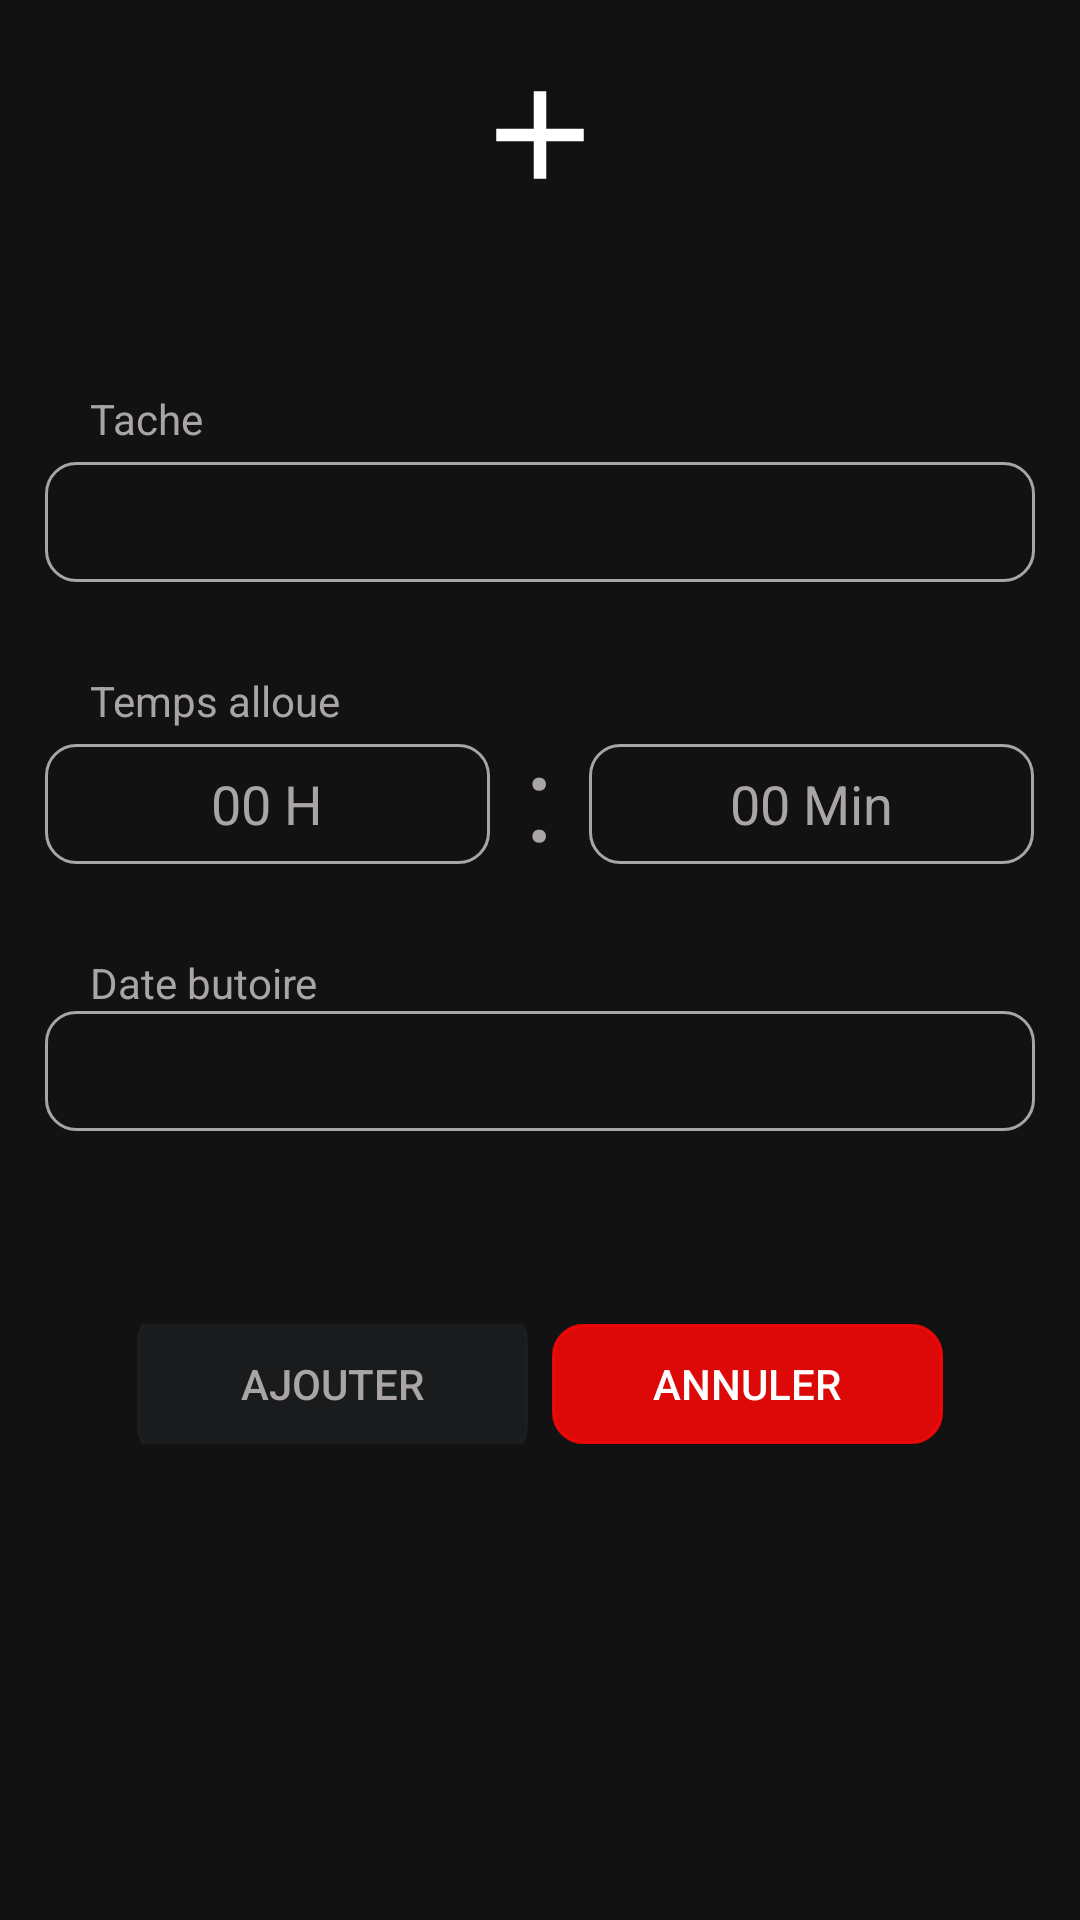

Named icons in this screenshot (1080×1920) and their bounding boxes, BBox(x1, y1, x2, y2):
add: BBox(496, 91, 584, 179)
